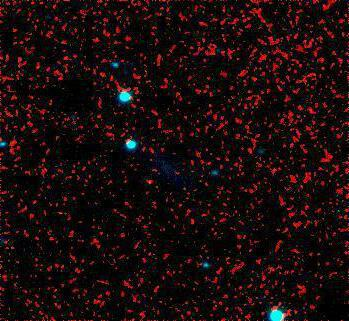star: (137, 163, 167, 193)
